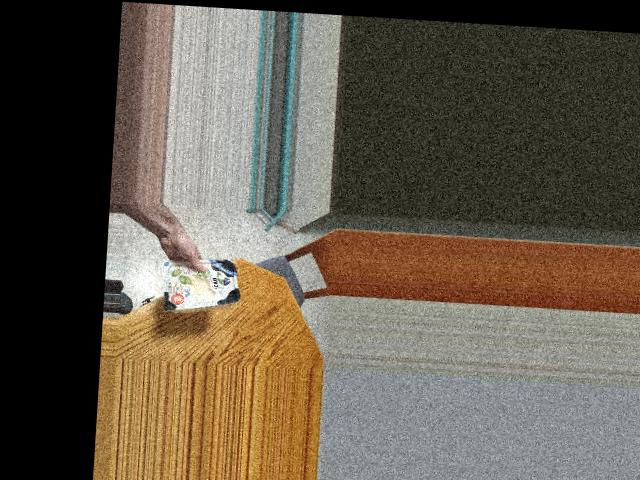cheese: (171, 246, 237, 312)
